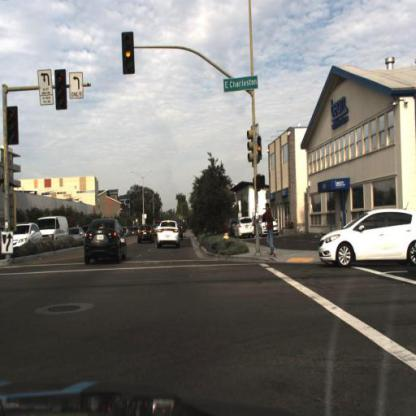car: (319, 208, 416, 269), (84, 216, 129, 267), (9, 222, 44, 254), (35, 213, 73, 242), (155, 220, 182, 252), (136, 222, 155, 249), (235, 216, 257, 239), (67, 223, 86, 246), (238, 217, 254, 240)
pedestrian: (259, 199, 279, 261)
trafficLight-RedLeft: (55, 64, 71, 112)
trafficLight-Yellow: (123, 30, 136, 74), (257, 131, 265, 160)
